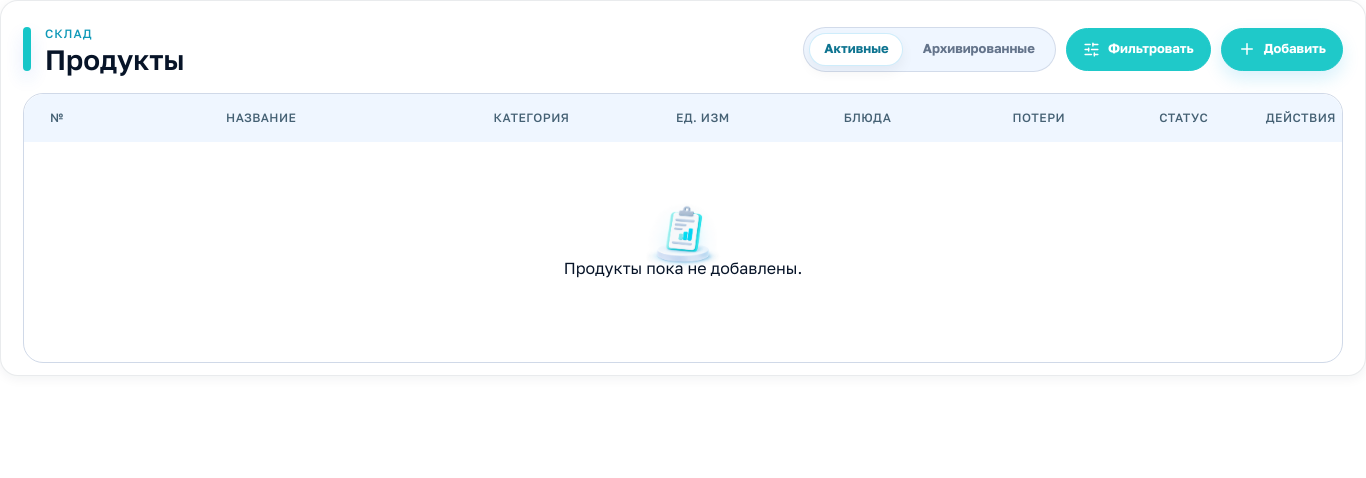
RAW V2 Dishes visual family › 5. filter button expands panel without supplier
This screenshot has width=1366, height=478.
Expected: the text "Продукты пока не добавлены." is shown, [564,258,802,280]
Click the button with class "dishes-filter-toggle". click: coordinates (1138, 49)
box: [1066,28,1211,70]
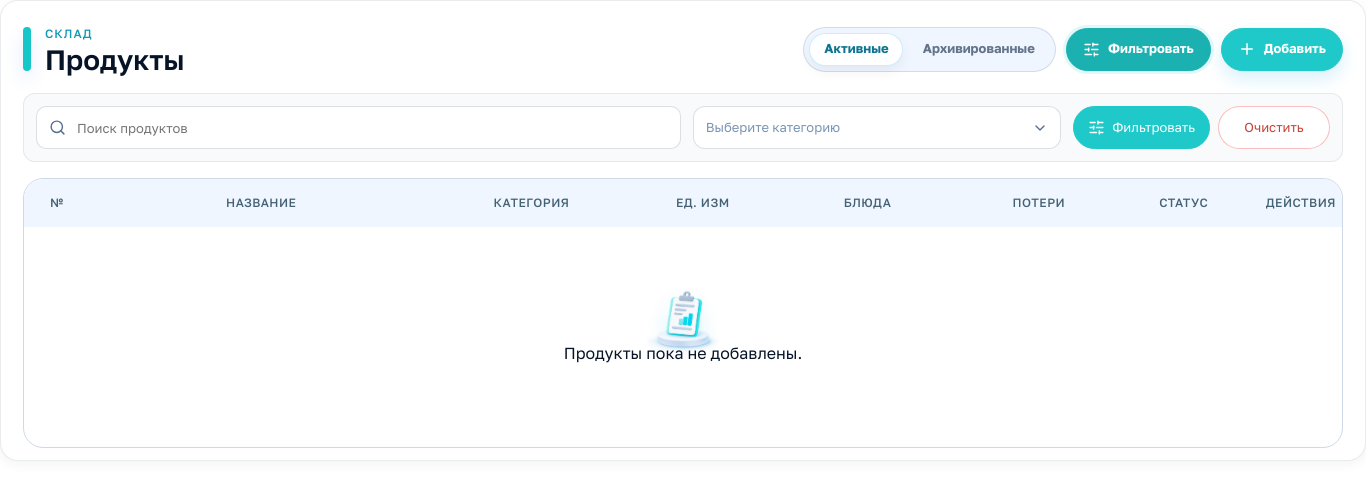
Expected: the button with class "dishes-filter-toggle" is expanded, [1066,28,1211,70]
Expected: the element with class "is-open" is shown, [23,93,1343,162]
Expected: the field with placeholder "Поиск продуктов" is shown, [36,106,681,149]
